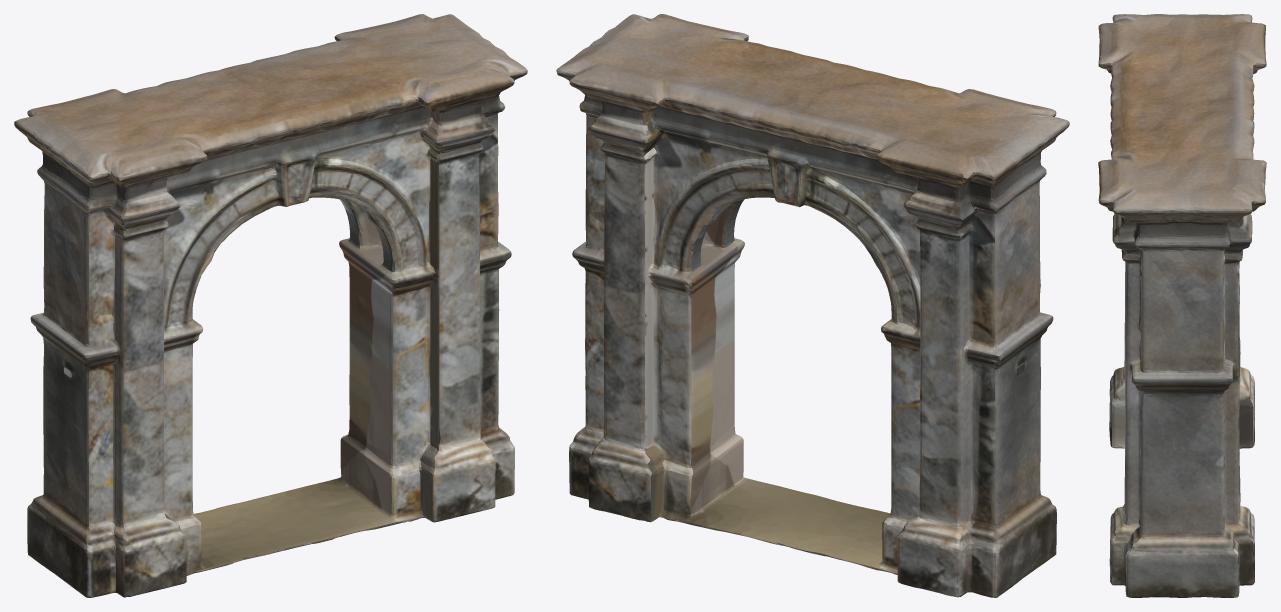
The model's file is mdl_arch_001.glb.
The picture shows the model from 3 angles, left to right: view 1: azimuth 30°, elevation 25°; view 2: azimuth 150°, elevation 25°; view 3: azimuth 270°, elevation 25°; orthographic projection. The views are drawn at different scales.
Parts seen in each view (by area): view 1: tmp31wtiubm.ply; view 2: tmp31wtiubm.ply; view 3: tmp31wtiubm.ply.
Part boxes in pixels (box(x1,y1,x2,y2)): tmp31wtiubm.ply: box(14, 14, 527, 597); tmp31wtiubm.ply: box(556, 14, 1069, 597); tmp31wtiubm.ply: box(1098, 14, 1266, 597).
Bounding box in the file's own units: 0.9905 × 0.9445 × 0.36.
1 material, 1 textured.
